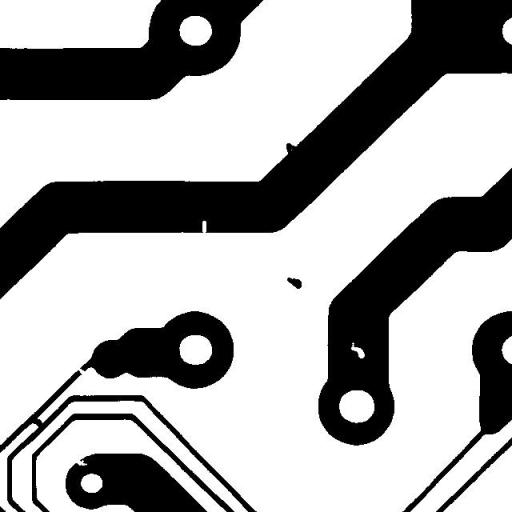copper: (279, 270, 309, 296)
mousebite: (68, 452, 94, 473), (194, 213, 214, 240)
open: (68, 360, 94, 382)
pin-hole: (343, 334, 372, 366)
short: (24, 410, 50, 435)
spur: (278, 135, 302, 164)
